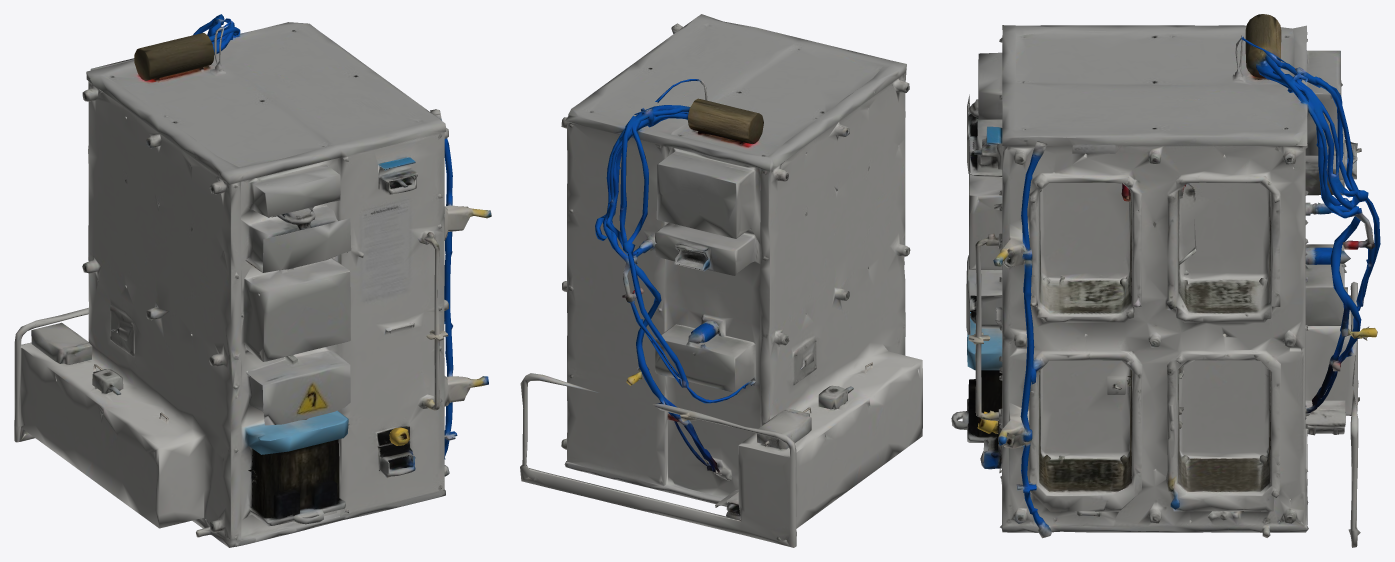
File: wrs_rack.glb
The picture shows the model from 3 angles, left to right: view 1: azimuth 30°, elevation 25°; view 2: azimuth 150°, elevation 25°; view 3: azimuth 270°, elevation 25°; orthographic projection. The views are drawn at different scales.
Visible parts, largest first — view 1: tripo_node_1cecf96c-1e32-43cb-8be9-b9d4c4f09b5a; view 2: tripo_node_1cecf96c-1e32-43cb-8be9-b9d4c4f09b5a; view 3: tripo_node_1cecf96c-1e32-43cb-8be9-b9d4c4f09b5a.
Boxes of the visible parts, bbox=[...] form: tripo_node_1cecf96c-1e32-43cb-8be9-b9d4c4f09b5a: bbox=[14, 14, 491, 547]; tripo_node_1cecf96c-1e32-43cb-8be9-b9d4c4f09b5a: bbox=[520, 14, 922, 547]; tripo_node_1cecf96c-1e32-43cb-8be9-b9d4c4f09b5a: bbox=[951, 14, 1380, 547].
Bounding box in the file's own units: 0.7778 × 1 × 0.8797.
1 material, 1 textured.
